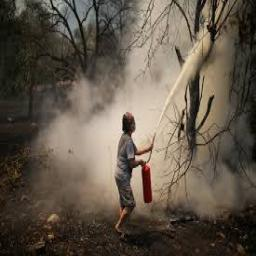Low smoke: (40, 0, 247, 233)
